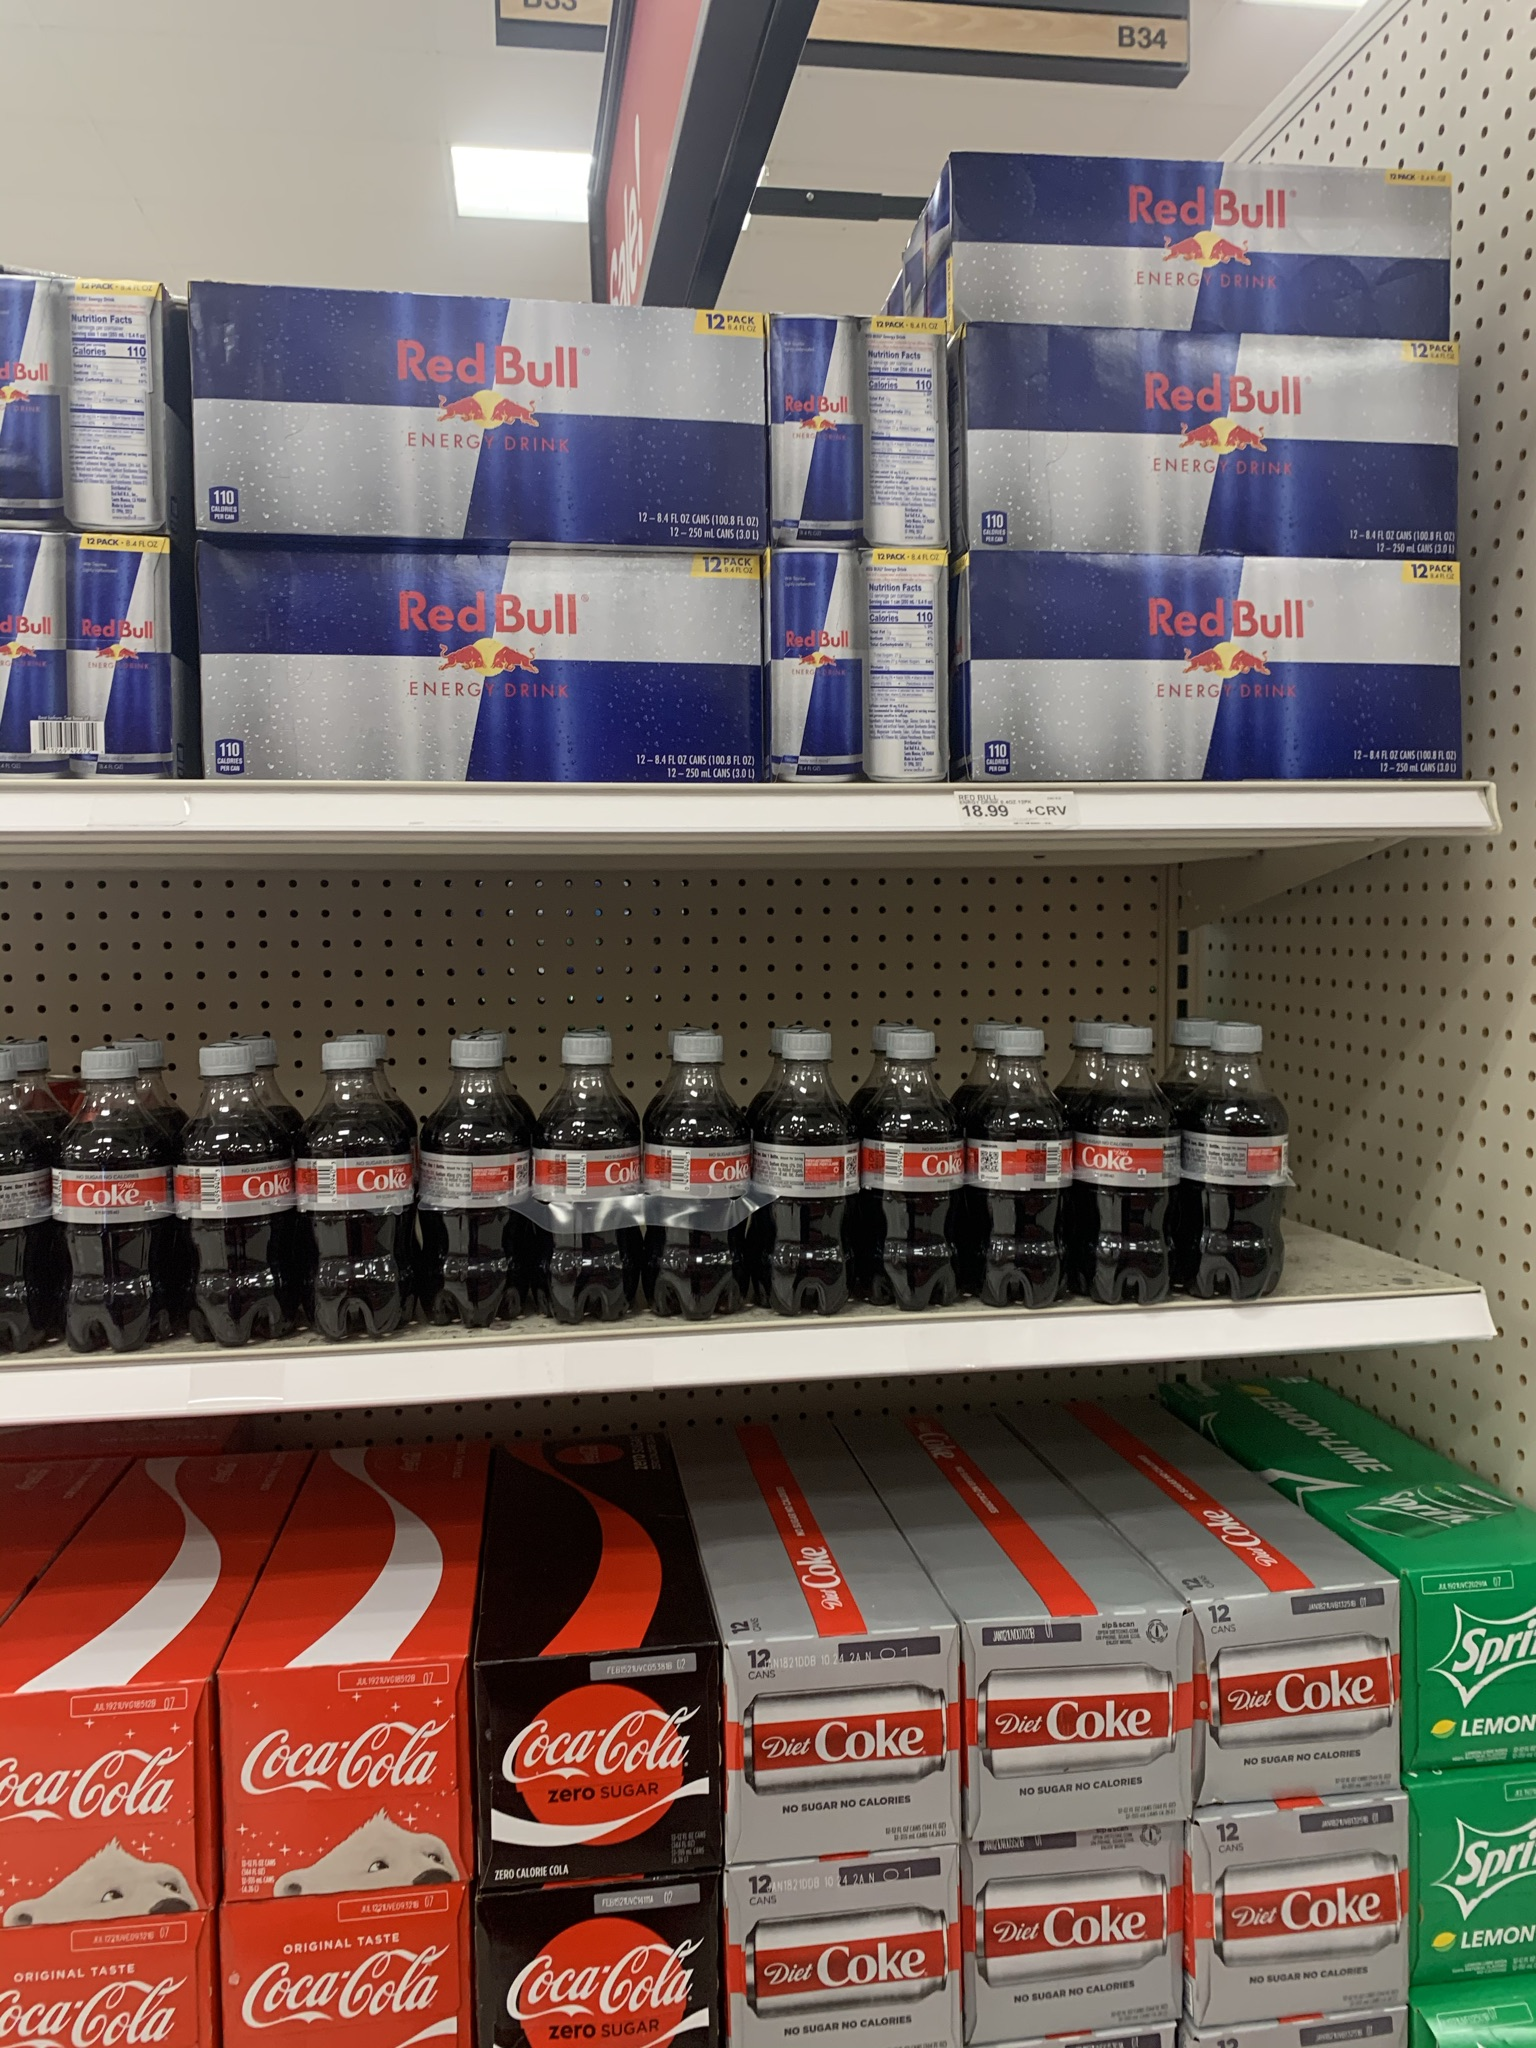coke: (198, 1047, 311, 1330), (84, 1076, 179, 1359), (329, 1050, 423, 1326), (449, 1064, 544, 1309)
coke soda: (484, 1650, 729, 1884), (223, 1656, 444, 1880), (752, 1624, 966, 1854), (970, 1609, 1192, 1821), (2, 1688, 198, 1919), (1194, 1804, 1413, 2000), (1208, 1566, 1394, 1792), (553, 1039, 679, 1351), (473, 1909, 728, 2048), (958, 1850, 1179, 2009), (1197, 998, 1304, 1305), (752, 1875, 958, 2030), (229, 1916, 458, 2042), (674, 1030, 762, 1361), (979, 1005, 1066, 1321), (874, 1001, 957, 1311), (771, 1001, 857, 1297), (1097, 997, 1176, 1300), (2, 1937, 187, 2045)
redbull soda: (202, 285, 762, 547), (954, 335, 1471, 564), (971, 566, 1463, 776), (954, 148, 1462, 340), (771, 556, 949, 793), (779, 321, 944, 534)
